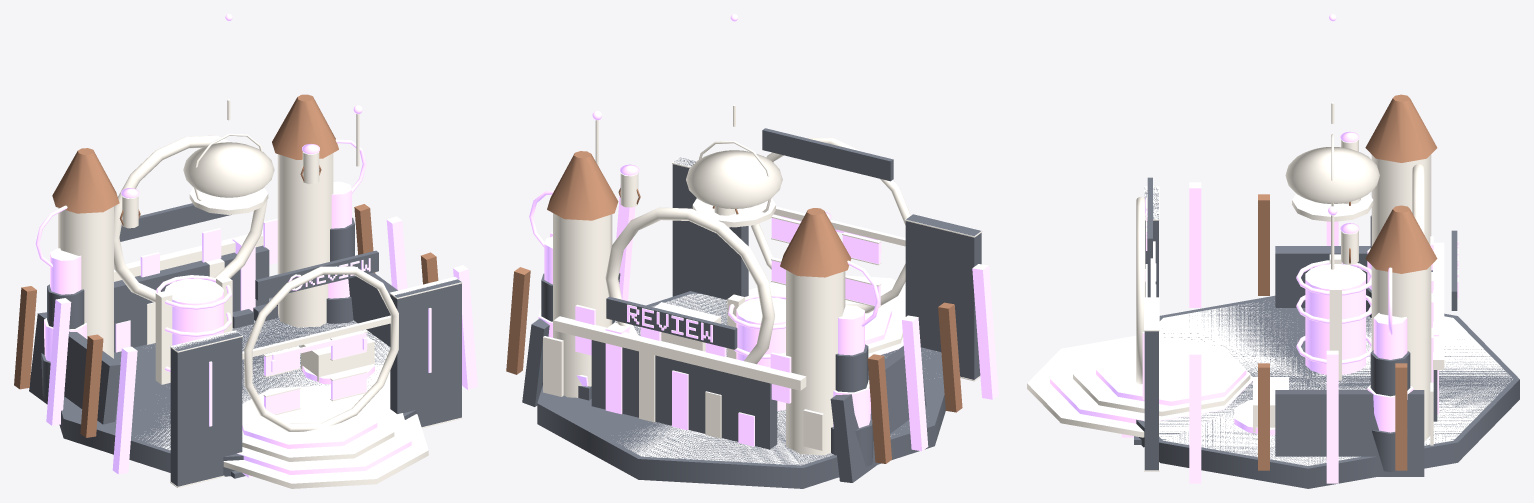
File: review-office.glb
The picture shows the model from 3 angles, left to right: view 1: azimuth 30°, elevation 25°; view 2: azimuth 150°, elevation 25°; view 3: azimuth 270°, elevation 25°; orthographic projection. The views are drawn at different scales.
Parts seen in each view (by area): view 1: review-office:near:surface:0, review-office:near:surface:3, review-office:near:surface:1, review-office:far:surface:0, review-office:near:surface:2, review-office:city-identity:verdict-halo, review-office:portal:chamber; view 2: review-office:near:surface:0, review-office:near:surface:1, review-office:far:surface:0, review-office:near:surface:3, review-office:near:surface:2, review-office:city-identity:verdict-halo, review-office:portal:chamber; view 3: review-office:near:surface:0, review-office:far:surface:0, review-office:near:surface:3, review-office:near:surface:1, review-office:near:surface:2, review-office:portal:chamber, review-office:city-identity:verdict-halo.
Boxes of the visible parts, x1,y1,x2,y2 form: review-office:near:surface:0: (29,203,461,486); review-office:near:surface:3: (35,14,477,477); review-office:near:surface:1: (114,99,462,488); review-office:far:surface:0: (58,153,390,450); review-office:near:surface:2: (14,94,438,437); review-office:city-identity:verdict-halo: (114,135,267,302); review-office:portal:chamber: (164,278,223,345); review-office:near:surface:0: (522,128,981,488); review-office:near:surface:1: (543,104,982,450); review-office:far:surface:0: (553,213,936,465); review-office:near:surface:3: (529,14,998,451); review-office:near:surface:2: (506,151,962,463); review-office:city-identity:verdict-halo: (605,207,774,364); review-office:portal:chamber: (736,297,785,410); review-office:near:surface:0: (1134,177,1519,488); review-office:far:surface:0: (1144,154,1512,465); review-office:near:surface:3: (1050,14,1458,483); review-office:near:surface:1: (1027,102,1444,471); review-office:near:surface:2: (1258,94,1437,470); review-office:portal:chamber: (1305,264,1365,374); review-office:city-identity:verdict-halo: (1412,164,1424,234).
Size of the model in its own units: 17.26 by 17.1 by 19.8.
